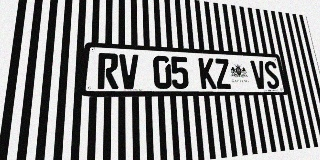0: (153, 55, 172, 89)
5: (171, 56, 189, 89)
K: (198, 58, 217, 89)
R: (97, 53, 118, 89)
S: (263, 61, 280, 89)
V: (119, 54, 139, 89), (250, 60, 268, 89)
Z: (214, 58, 232, 89)
